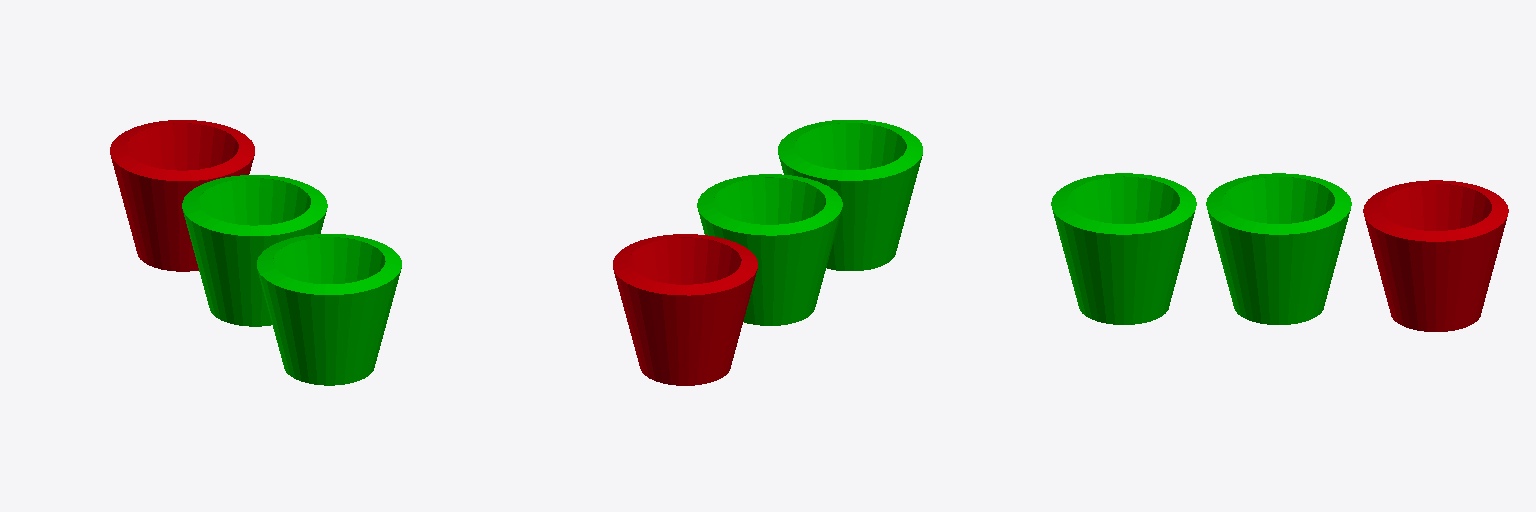
File: tongjadihijau.obj
The picture shows the model from 3 angles: view 1: azimuth 30°, elevation 25°; view 2: azimuth 150°, elevation 25°; view 3: azimuth 270°, elevation 25°; orthographic projection.
Parts seen in each view (by area): view 1: Cylinder.002_Cylinder.004, Cylinder, Cylinder.004_Cylinder.006; view 2: Cylinder.004_Cylinder.006, Cylinder, Cylinder.002_Cylinder.004; view 3: Cylinder, Cylinder.004_Cylinder.006, Cylinder.002_Cylinder.004.
Boxes of the visible parts, <box> form: Cylinder.002_Cylinder.004: <box>257,234,401,385</box>; Cylinder: <box>182,175,327,326</box>; Cylinder.004_Cylinder.006: <box>110,120,254,271</box>; Cylinder.004_Cylinder.006: <box>613,234,757,385</box>; Cylinder: <box>697,174,842,325</box>; Cylinder.002_Cylinder.004: <box>778,120,922,270</box>; Cylinder: <box>1206,173,1351,324</box>; Cylinder.004_Cylinder.006: <box>1363,180,1508,331</box>; Cylinder.002_Cylinder.004: <box>1051,173,1196,324</box>.
Size of the model in its own units: 2.81 by 2.17 by 8.21.